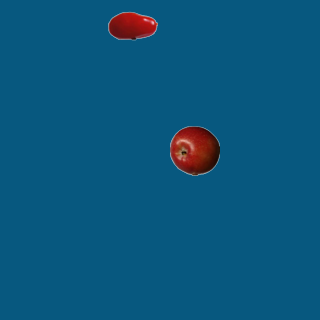Apple Braeburn: (169, 125, 219, 175)
Tomato 2: (107, 0, 157, 50)
